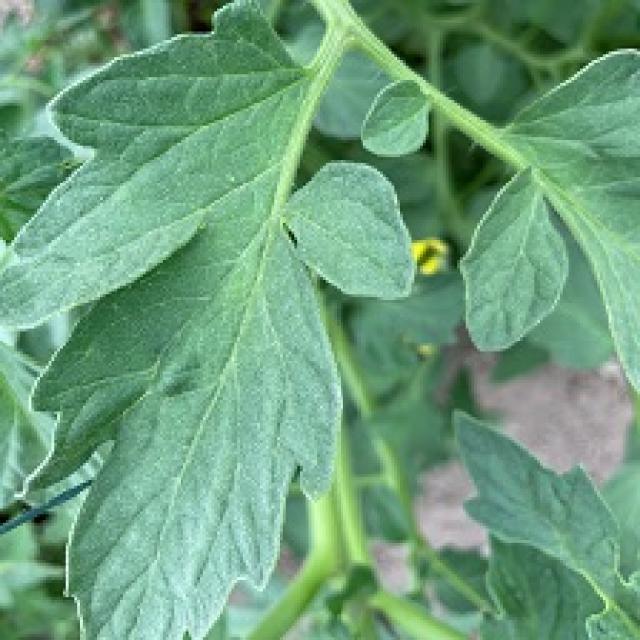Healthy: (0, 0, 470, 640)
